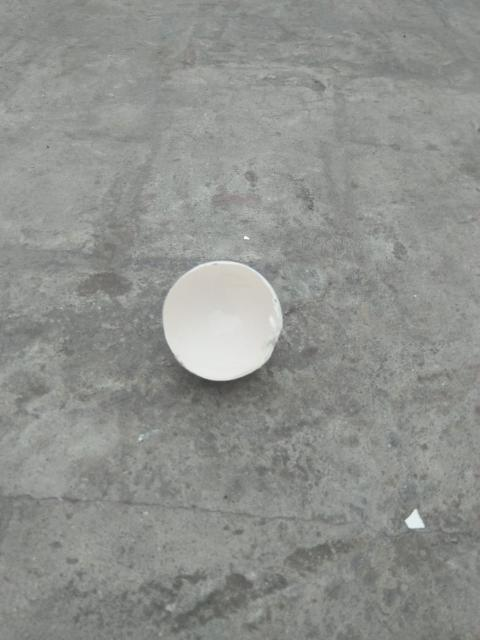Roto: (161, 259, 284, 382)
